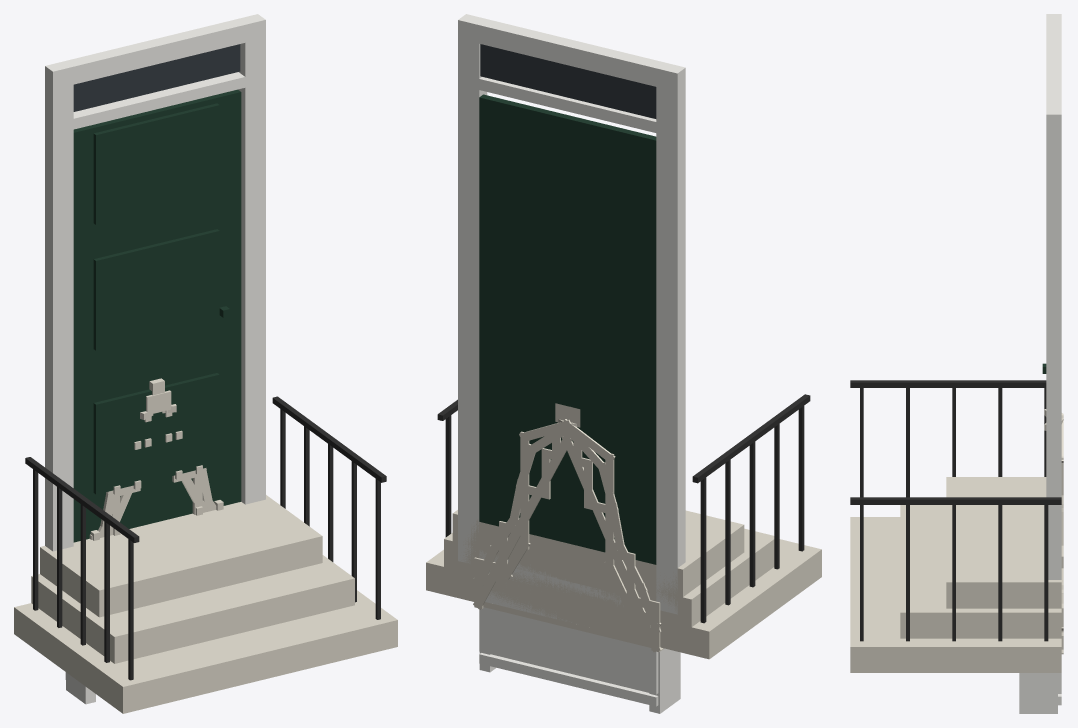
Rendered from facade.glb.
3 views of the same model, side by side, from view 1: azimuth 30°, elevation 25°; view 2: azimuth 150°, elevation 25°; view 3: azimuth 270°, elevation 25° (orthographic). The views are drawn at different scales.
Visible parts, largest first — view 1: door, gable_trim_1, gable_trim_2, gable_trim_3, gable_trim_0; view 2: door, cornice, gable_trim_2, gable_trim_3, gable_trim_0, gable_trim_1; view 3: door, cornice, gable_trim_3.
Boxes of the visible parts, x1,y1,x2,y2 form: door: (14, 14, 397, 713); gable_trim_1: (89, 410, 223, 540); gable_trim_2: (112, 378, 202, 517); gable_trim_3: (98, 404, 216, 537); gable_trim_0: (110, 472, 208, 535); door: (426, 14, 821, 659); cornice: (479, 550, 680, 713); gable_trim_2: (473, 403, 661, 647); gable_trim_3: (473, 419, 663, 652); gable_trim_0: (473, 435, 662, 652); gable_trim_1: (474, 426, 660, 621); door: (850, 14, 1061, 672); cornice: (1019, 673, 1061, 713); gable_trim_3: (1044, 409, 1063, 635).
Bounding box in the file's own units: 1.6 × 3.49 × 1.11.
